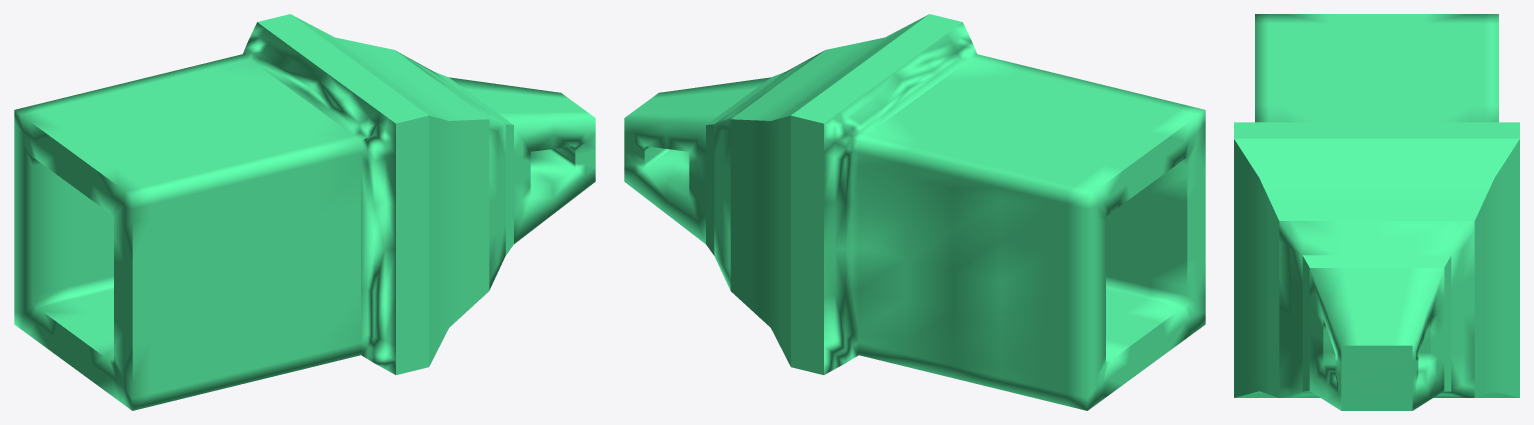
Rendered from lantern.fbx.
3 renders of one model, left to right at view 1: azimuth 30°, elevation 25°; view 2: azimuth 150°, elevation 25°; view 3: azimuth 270°, elevation 25°, orthographic. The views are drawn at different scales.
Parts seen in each view (by area): view 1: 0lantern; view 2: 0lantern; view 3: 0lantern.
Boxes of the visible parts, x1,y1,x2,y2 form: 0lantern: (14, 14, 595, 410); 0lantern: (624, 14, 1205, 410); 0lantern: (1234, 14, 1519, 410).
Size of the model in its own units: 200 by 95.18 by 95.18.
